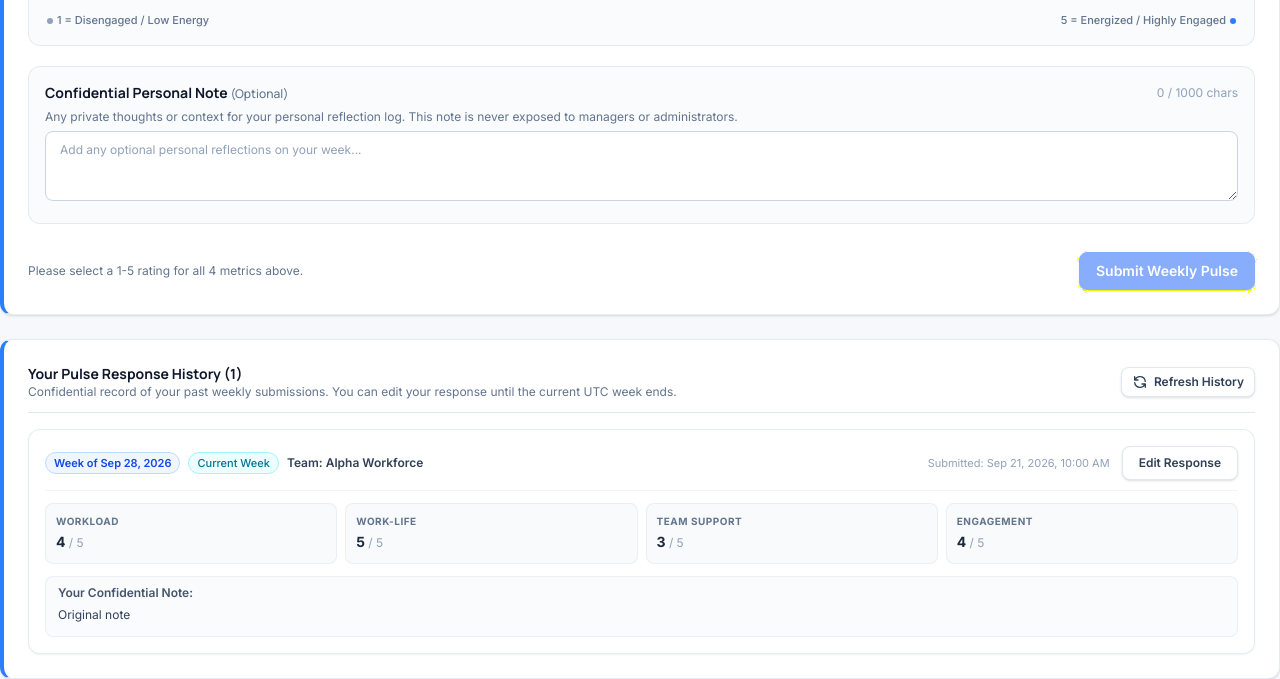
Weekly Pulse Surveys Feature Suite › Employee Current-Week Edit Workflow › sends exact PATCH request and updates response with Edited badge and timestamp
This screenshot has width=1280, height=679.
(page scrolled)
Click the button "Edit Response": (1180, 463) [1122,446,1238,480]
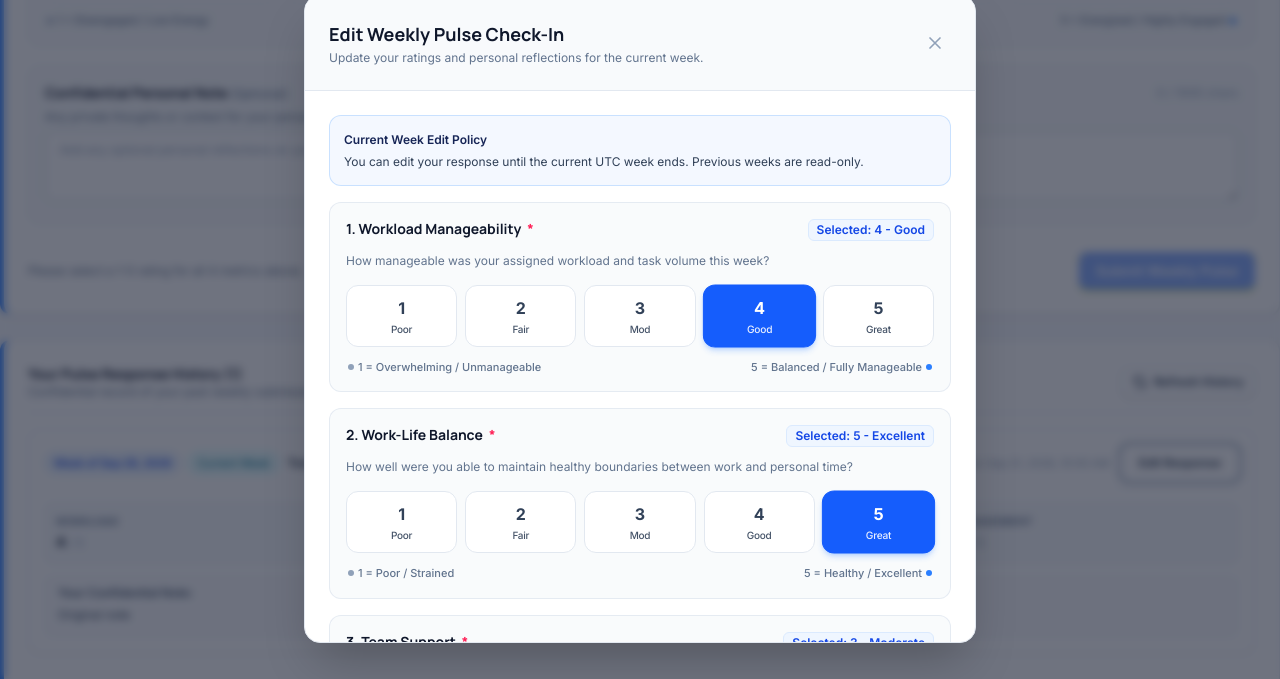
Result: the radio button with id "edit-pulse-workload-option-5" is shown
Click the radio button with id "edit-pulse-workload-option-5": (878, 316) [823,284,934,347]
(page scrolled)
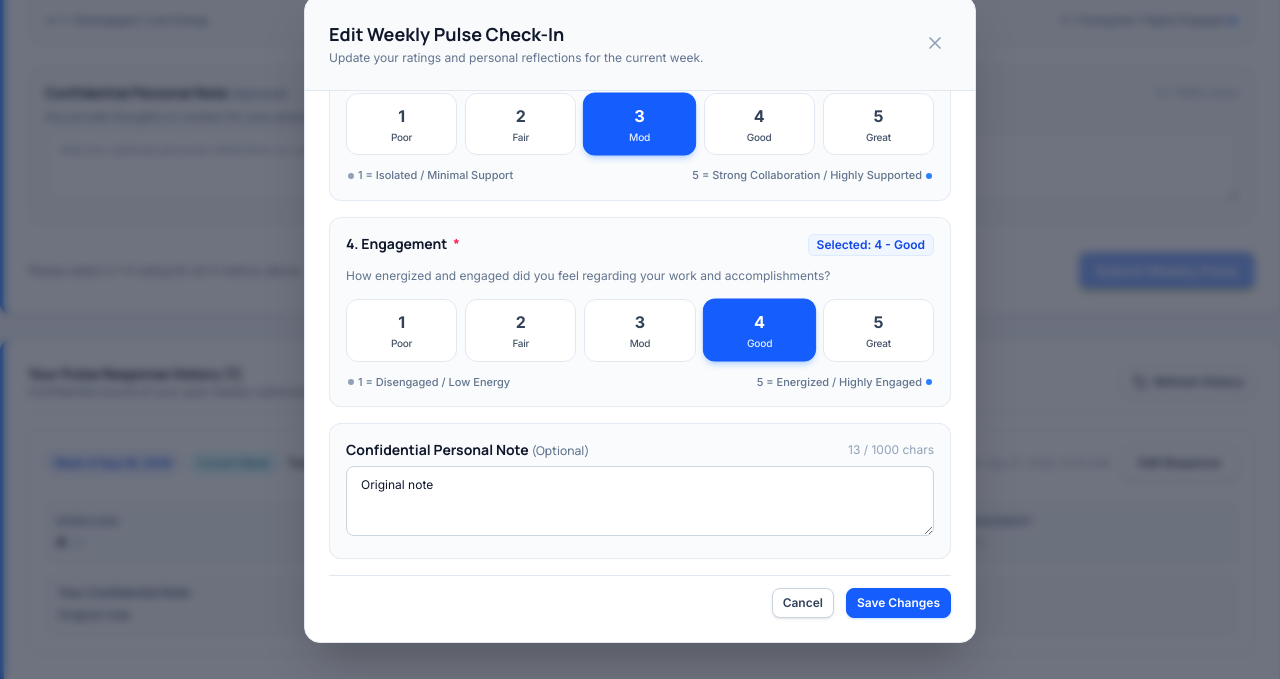
Note: Change comment
Replace the text in the text box showing "Original note" with "Updated reflections note after midweek review.": (640, 501) [346,466,934,536]
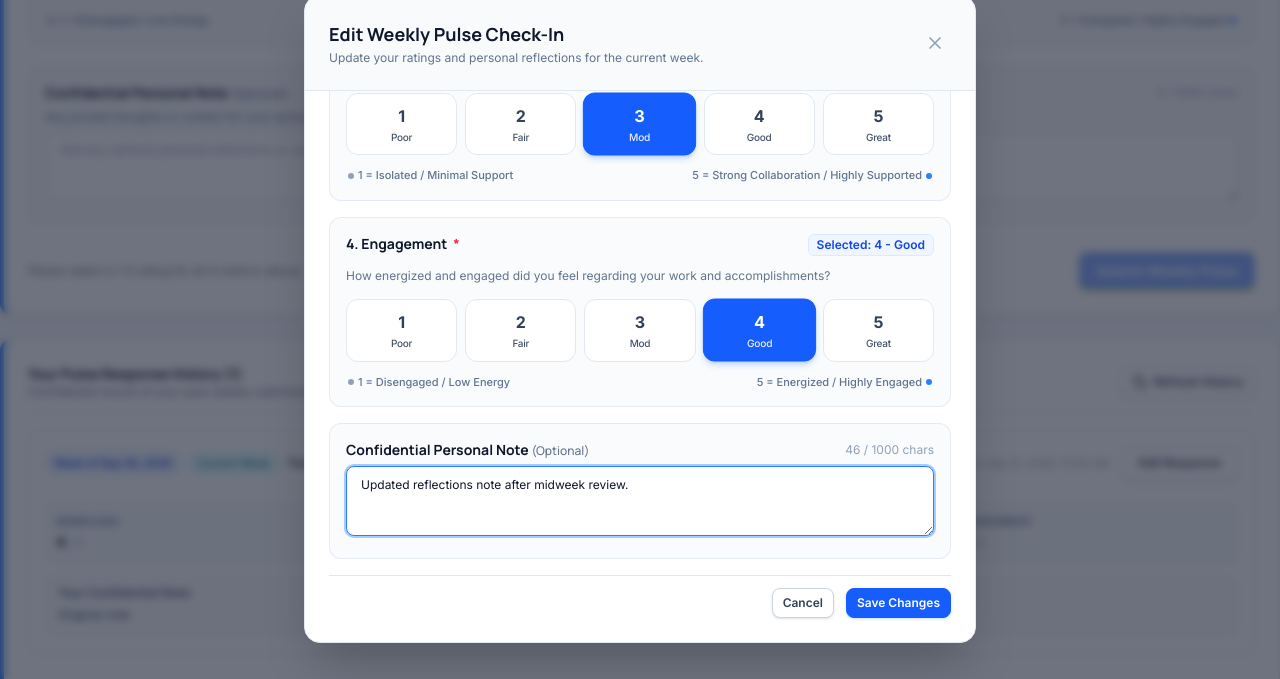
Note: Click save
Click the button "Save Changes": (898, 603) [846,588,951,618]
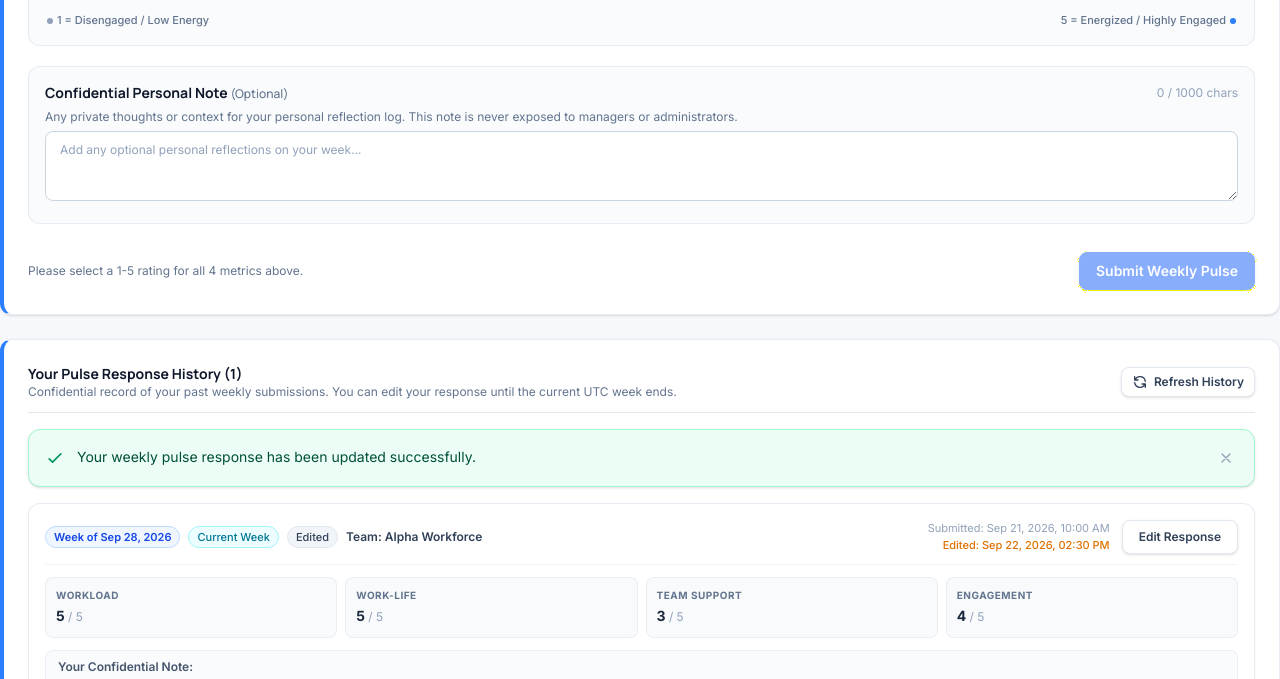
Result: the text "Your weekly pulse response has been updated successfully." is shown at [77,448,476,465]
Result: the text "Edited" is shown at [296,529,329,545]
Result: the text "Edited: Sep 22, 2026, 02:30 PM" is shown at [943,537,1110,553]
